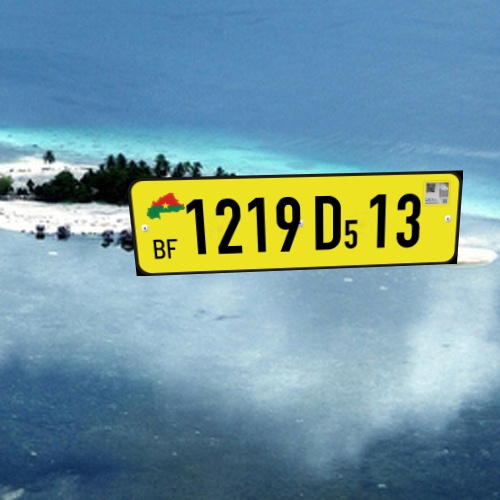plate: (120, 162, 473, 293)
